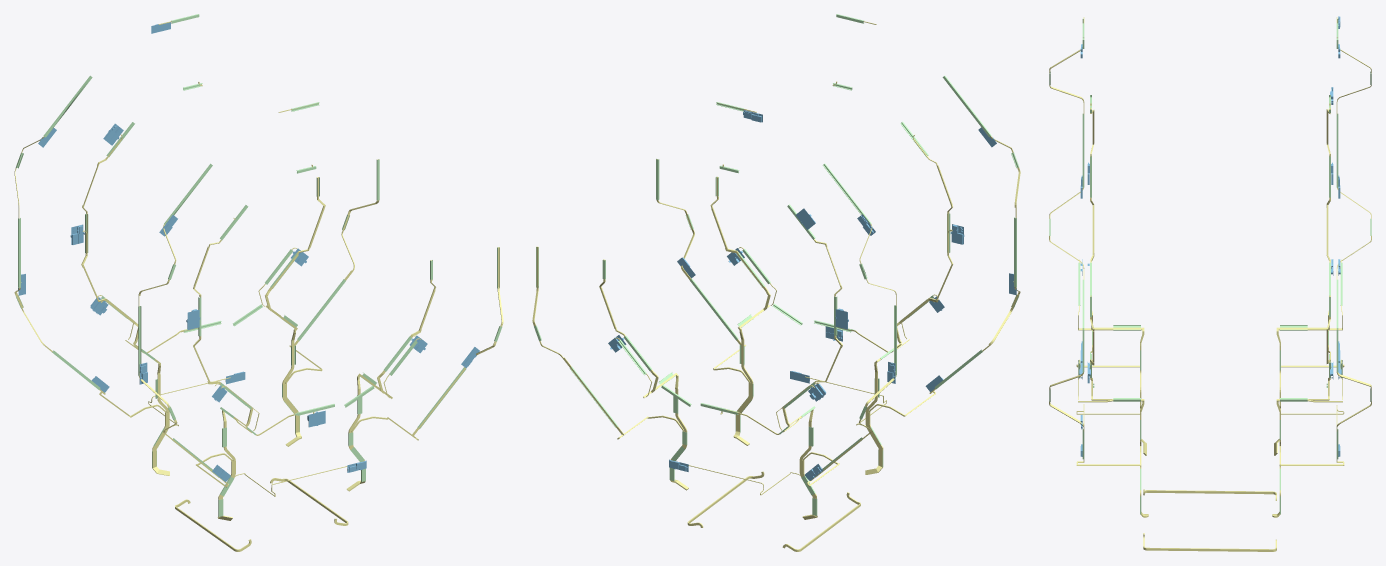
Rendered from MSPatchPannel-cut3.glb.
The picture shows the model from 3 angles, left to right: view 1: azimuth 30°, elevation 25°; view 2: azimuth 150°, elevation 25°; view 3: azimuth 270°, elevation 25°; orthographic projection. The views are drawn at different scales.
Visible parts, largest first — view 1: _00000191ACF0A1B0_IndexedFaceSet, _00000191ACF0C3D0_IndexedFaceSet, _00000191ACF0A450_04_IndexedFaceSet; view 2: _00000191ACF0A1B0_IndexedFaceSet, _00000191ACF0C3D0_IndexedFaceSet, _00000191ACF0A450_04_IndexedFaceSet; view 3: _00000191ACF0A1B0_IndexedFaceSet, _00000191ACF0C3D0_IndexedFaceSet, _00000191ACF0A450_04_IndexedFaceSet.
Boxes of the visible parts, x1,y1,x2,y2 form: _00000191ACF0A1B0_IndexedFaceSet: (14, 21, 503, 551); _00000191ACF0C3D0_IndexedFaceSet: (15, 14, 502, 516); _00000191ACF0A450_04_IndexedFaceSet: (18, 22, 479, 481); _00000191ACF0A1B0_IndexedFaceSet: (532, 21, 1020, 551); _00000191ACF0C3D0_IndexedFaceSet: (534, 14, 1018, 515); _00000191ACF0A450_04_IndexedFaceSet: (608, 110, 1016, 480); _00000191ACF0A1B0_IndexedFaceSet: (1049, 17, 1371, 551); _00000191ACF0C3D0_IndexedFaceSet: (1049, 18, 1371, 514); _00000191ACF0A450_04_IndexedFaceSet: (1079, 16, 1341, 456).
Bounding box in the file's own units: 18.02 × 21.89 × 13.24.
